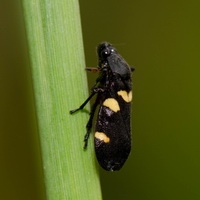insect: (70, 42, 133, 170)
